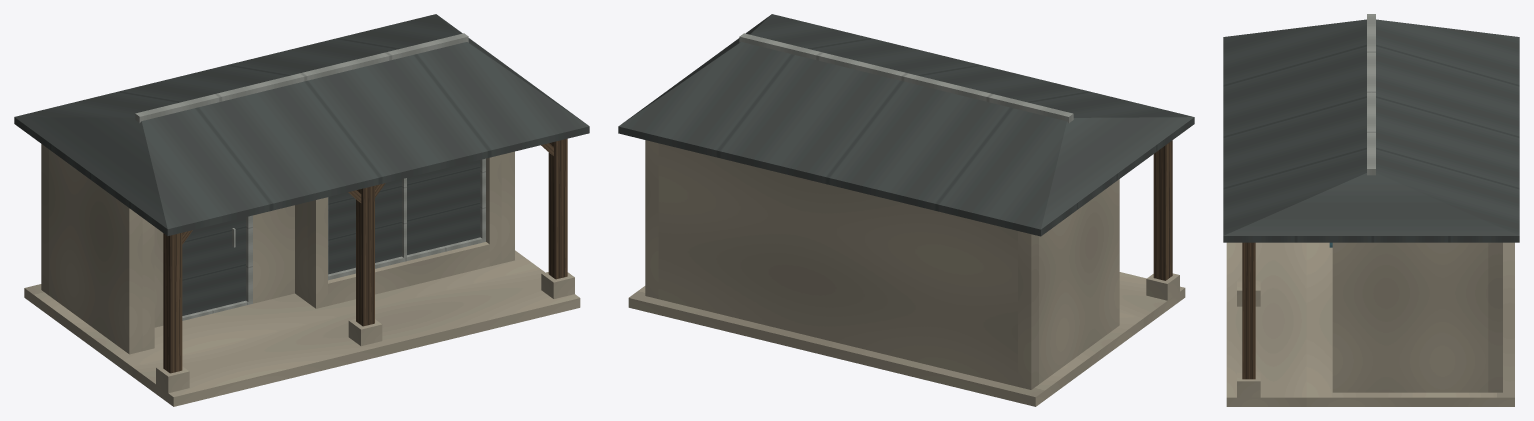
Rendered from bangkok.glb.
3 views of the same model, side by side, from view 1: azimuth 30°, elevation 25°; view 2: azimuth 150°, elevation 25°; view 3: azimuth 270°, elevation 25° (orthographic). The views are drawn at different scales.
Parts seen in each view (by area): view 1: bangkok; view 2: bangkok; view 3: bangkok.
Boxes of the visible parts, left/top/right/bottom form: bangkok: left=14, top=14, right=589, bottom=406; bangkok: left=618, top=14, right=1194, bottom=406; bangkok: left=1223, top=14, right=1519, bottom=406.
Size of the model in its own units: 6.35 by 3.27 by 4.
Materials: 1 (1 with a texture image).
